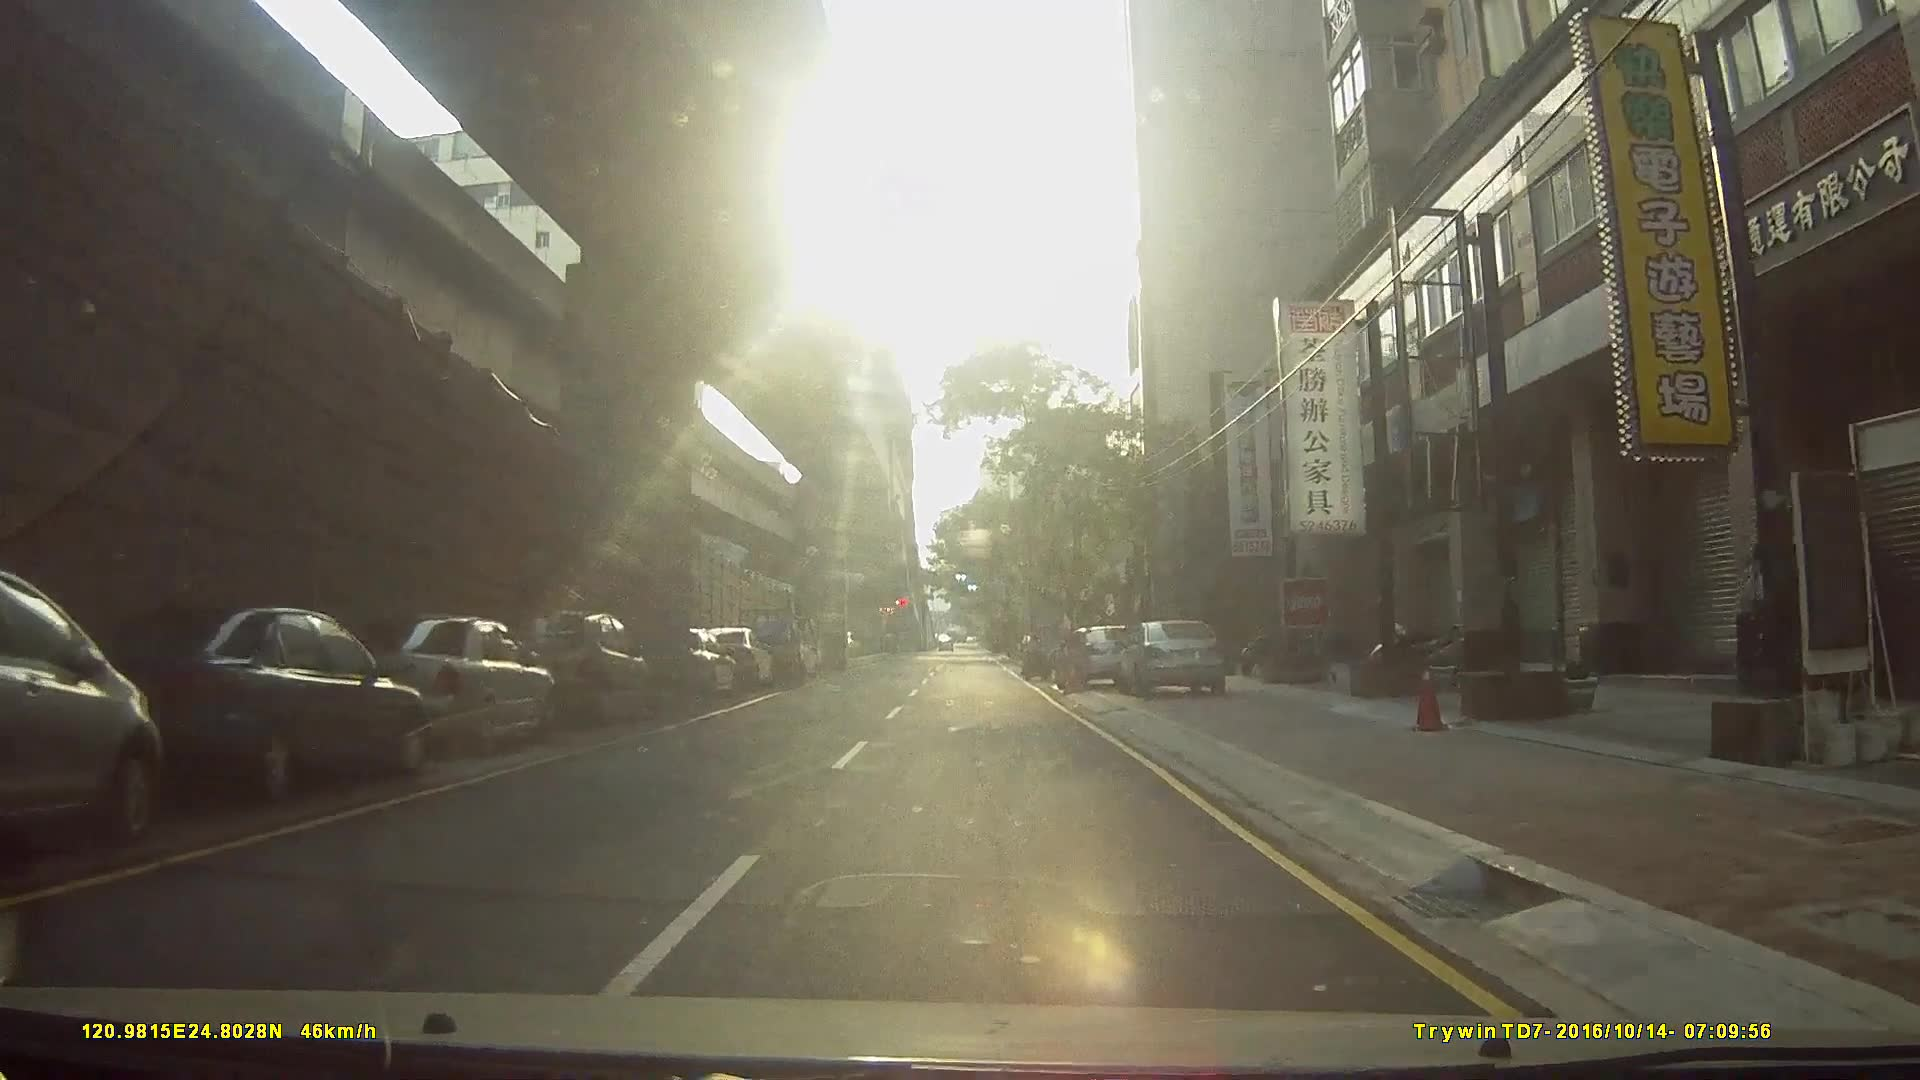rider: (1017, 623, 1051, 678)
vehicle: (63, 600, 412, 808), (1, 577, 171, 865), (338, 608, 551, 756), (490, 606, 651, 733), (1115, 615, 1228, 695), (1052, 620, 1138, 688), (689, 624, 770, 694), (731, 598, 799, 680)
